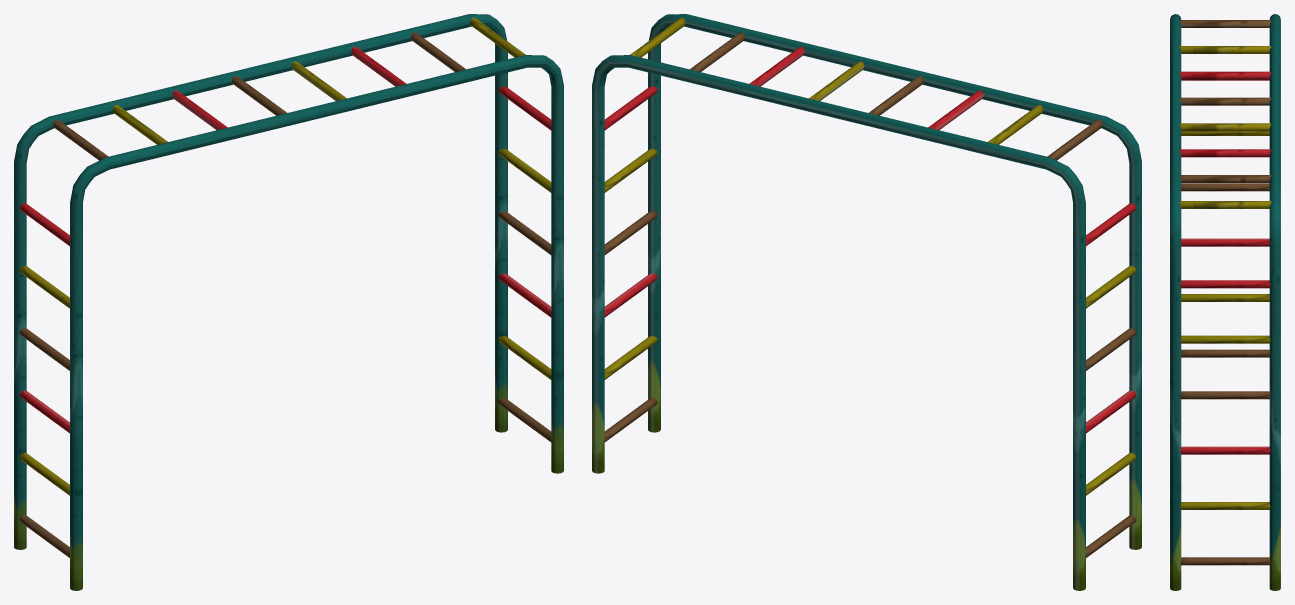
The model's file is Staris.fbx.
3 renders of one model, left to right at view 1: azimuth 30°, elevation 25°; view 2: azimuth 150°, elevation 25°; view 3: azimuth 270°, elevation 25°, orthographic. The views are drawn at different scales.
Visible parts, largest first — view 1: Vert.011; view 2: Vert.011; view 3: Vert.011.
Boxes of the visible parts, x1,y1,x2,y2 form: Vert.011: [14, 14, 563, 590]; Vert.011: [592, 14, 1141, 590]; Vert.011: [1170, 14, 1280, 590].
Size of the model in its own units: 355 by 292 by 78.
